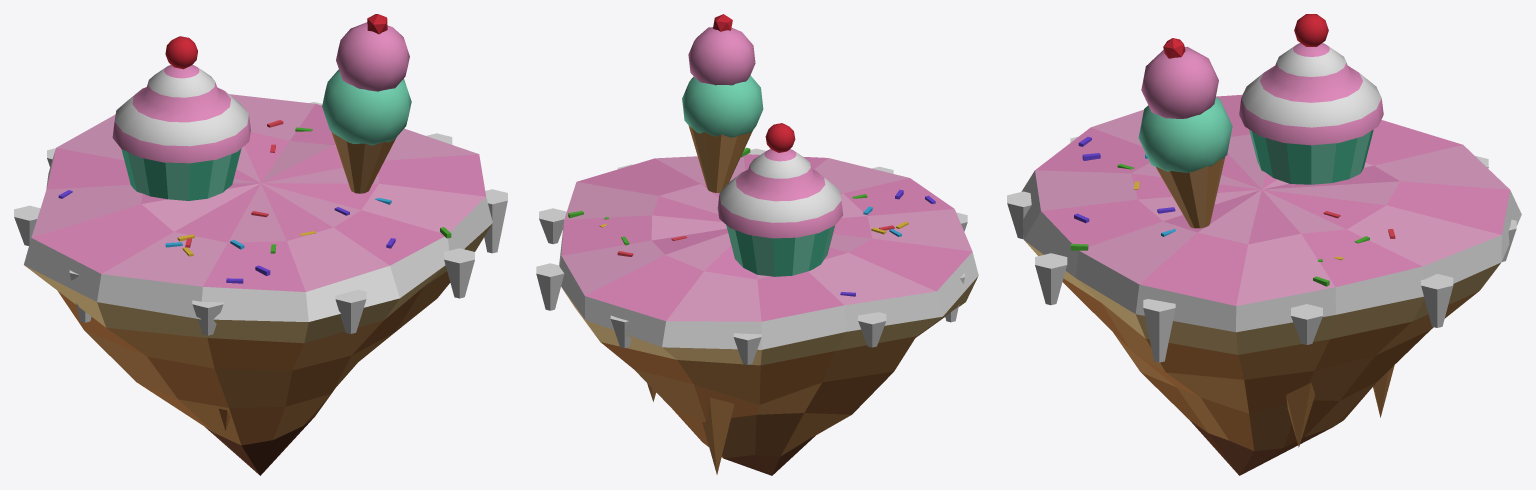
Rendered from candy_2.glb.
3 views of the same model, side by side, from view 1: azimuth 30°, elevation 25°; view 2: azimuth 150°, elevation 25°; view 3: azimuth 270°, elevation 25° (orthographic). The views are drawn at different scales.
Visible parts, largest first — view 1: Island, Sweets; view 2: Island, Sweets; view 3: Island, Sweets.
Part boxes in pixels (box(x1,y1,x2,y2)): Island: box(14, 94, 507, 475); Sweets: box(58, 14, 451, 283); Island: box(536, 148, 978, 475); Sweets: box(568, 14, 935, 296); Island: box(1007, 94, 1521, 475); Sweets: box(1070, 14, 1395, 286).
Size of the model in its own units: 12.64 by 12.85 by 12.45.
